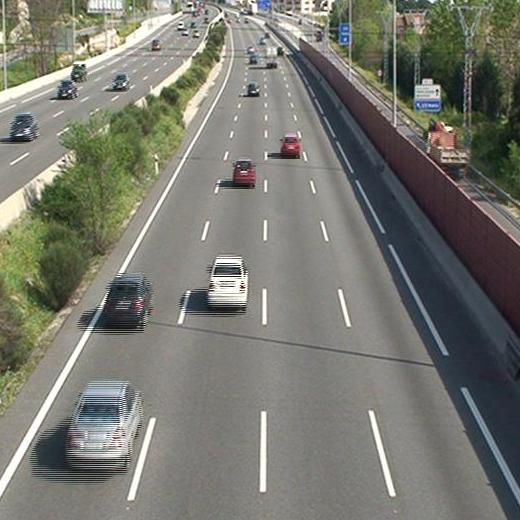car: (67, 382, 145, 470), (105, 276, 153, 324), (207, 256, 248, 307), (232, 158, 255, 185), (281, 134, 301, 157), (247, 81, 259, 96), (247, 55, 256, 63)
small-truck: (265, 45, 278, 68)
